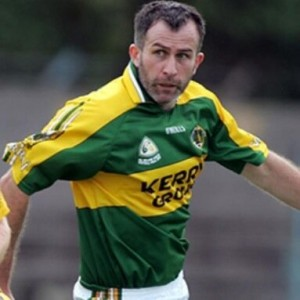player: (38, 3, 240, 287)
